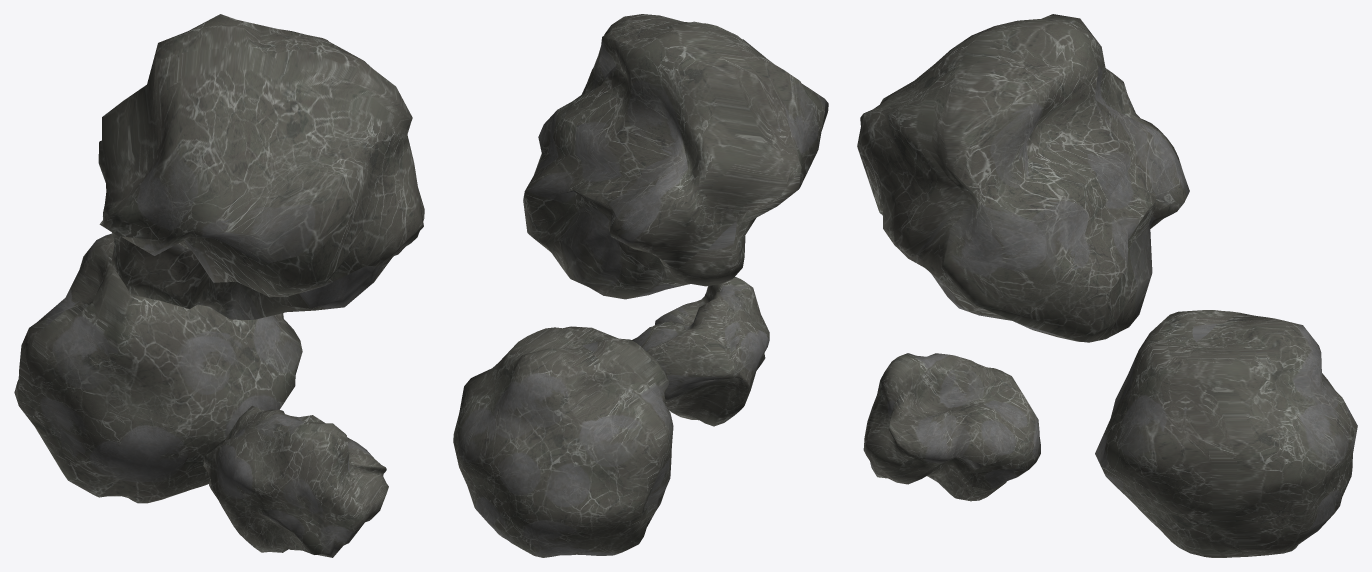
File: Asteroids.FBX
3 views of the same model, side by side, from view 1: azimuth 30°, elevation 25°; view 2: azimuth 150°, elevation 25°; view 3: azimuth 270°, elevation 25° (orthographic). The views are drawn at different scales.
Visible parts, largest first — view 1: Asteroid003, Asteroid001, Asteroid002; view 2: Asteroid003, Asteroid001, Asteroid002; view 3: Asteroid003, Asteroid001, Asteroid002.
Boxes of the visible parts, <box> form: Asteroid003: <box>98,14,424,319</box>; Asteroid001: <box>14,233,302,503</box>; Asteroid002: <box>203,405,388,557</box>; Asteroid003: <box>523,14,828,299</box>; Asteroid001: <box>453,326,673,557</box>; Asteroid002: <box>632,277,769,426</box>; Asteroid003: <box>857,14,1189,342</box>; Asteroid001: <box>1095,310,1357,557</box>; Asteroid002: <box>863,353,1040,501</box>.
Size of the model in its own units: 0.9571 by 1.65 by 1.47.
Materials: 1 (1 with a texture image).
